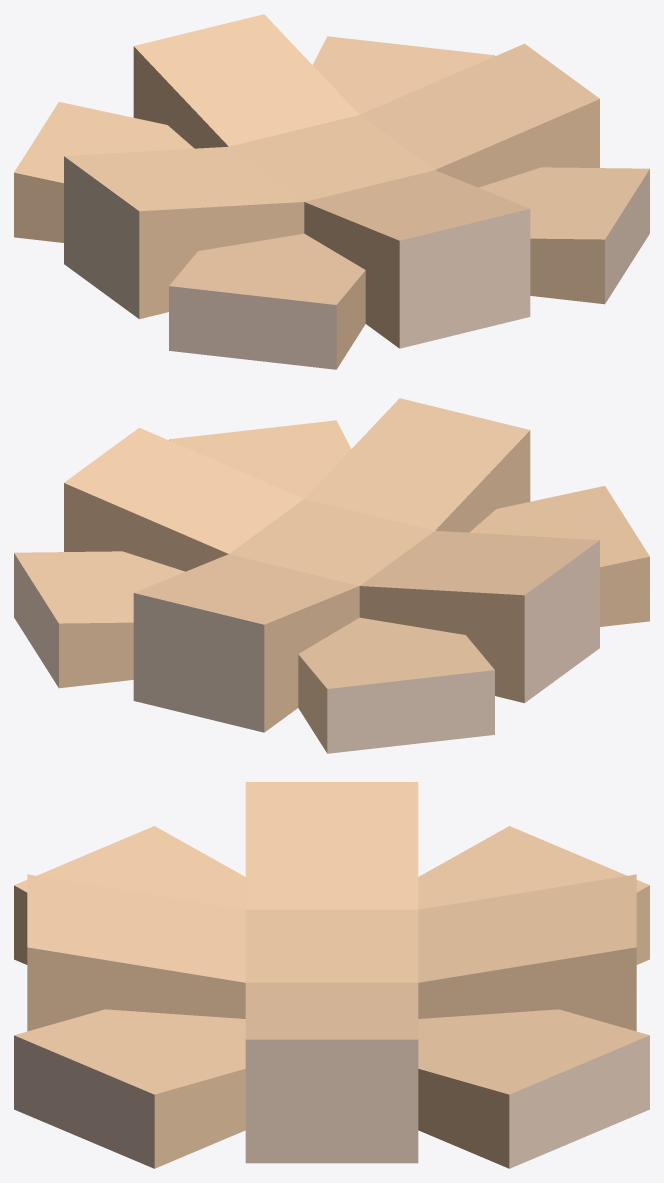
The model's file is campfire_small.glb.
The picture shows the model from 3 angles, top to bottom: view 1: azimuth 30°, elevation 25°; view 2: azimuth 150°, elevation 25°; view 3: azimuth 270°, elevation 25°; orthographic projection. The views are drawn at different scales.
Parts seen in each view (by area): view 1: campfire_small; view 2: campfire_small; view 3: campfire_small.
Boxes of the visible parts, <box> form: campfire_small: <box>14,14,649,369</box>; campfire_small: <box>14,398,649,753</box>; campfire_small: <box>14,782,649,1168</box>.
Bounding box in the file's own units: 0.2919 × 0.0626 × 0.2919.
